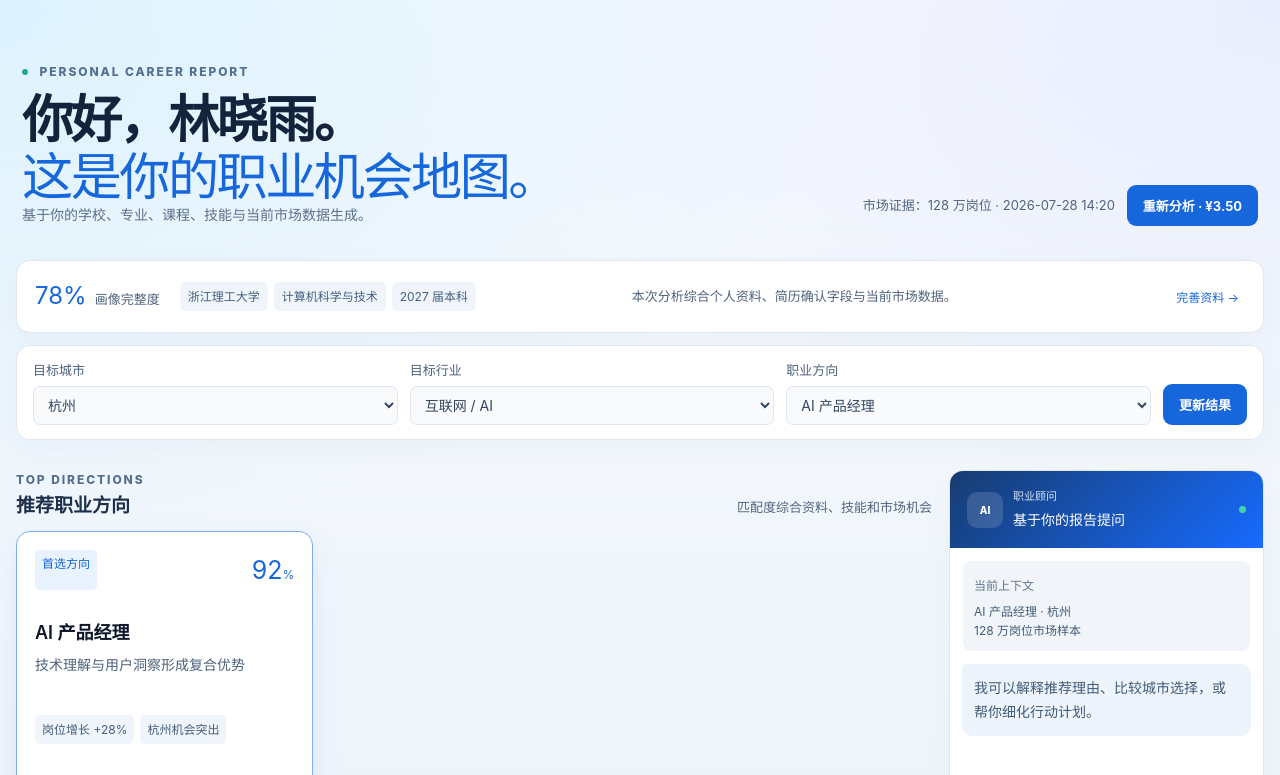
Test: CareerAnalysisView › can cancel a waiting run from the clarification panel
The width and height of the screenshot is (1280, 775).
Click the button with test id "generate-analysis".
click(1192, 206)  # box [1127, 185, 1258, 226]
Wait 3000 ms
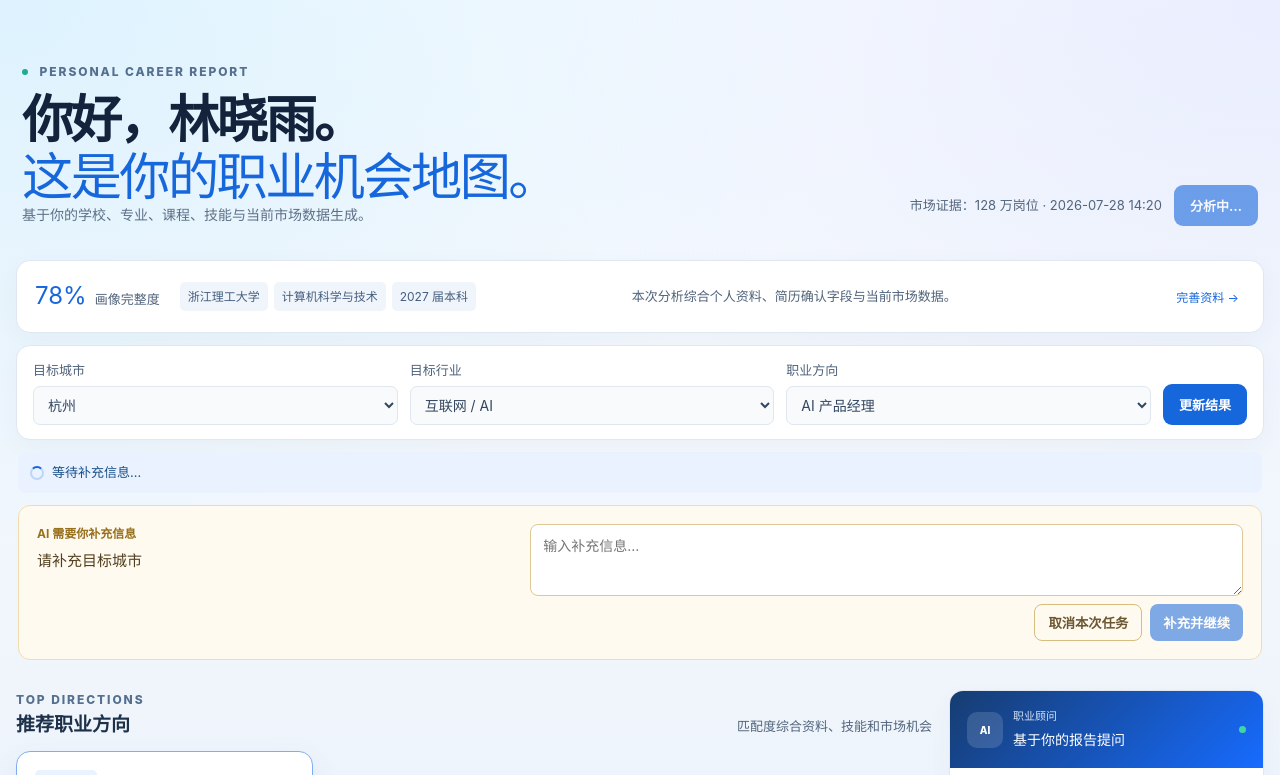
Click the button with test id "clarification-cancel".
click(1088, 623)  # box [1034, 604, 1142, 641]
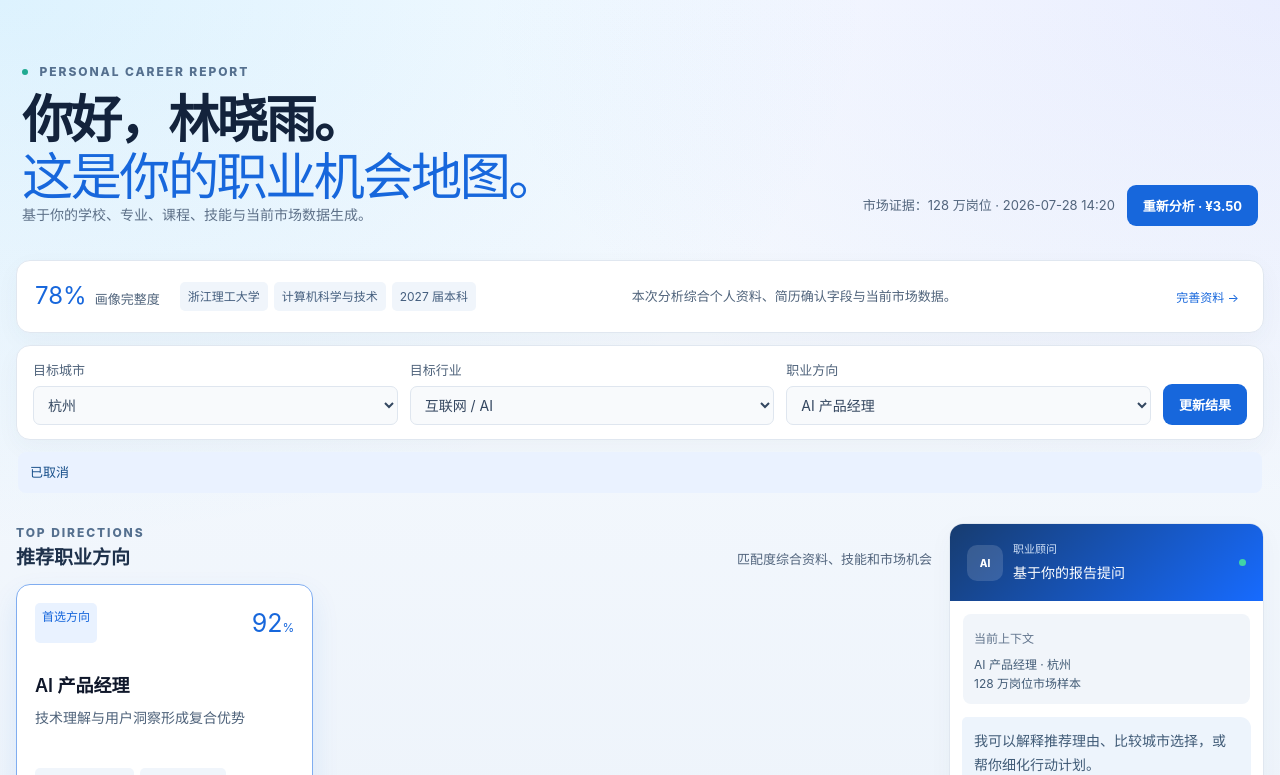
Check: the text with test id "run-status" reads "已取消", box [30, 464, 69, 480]
